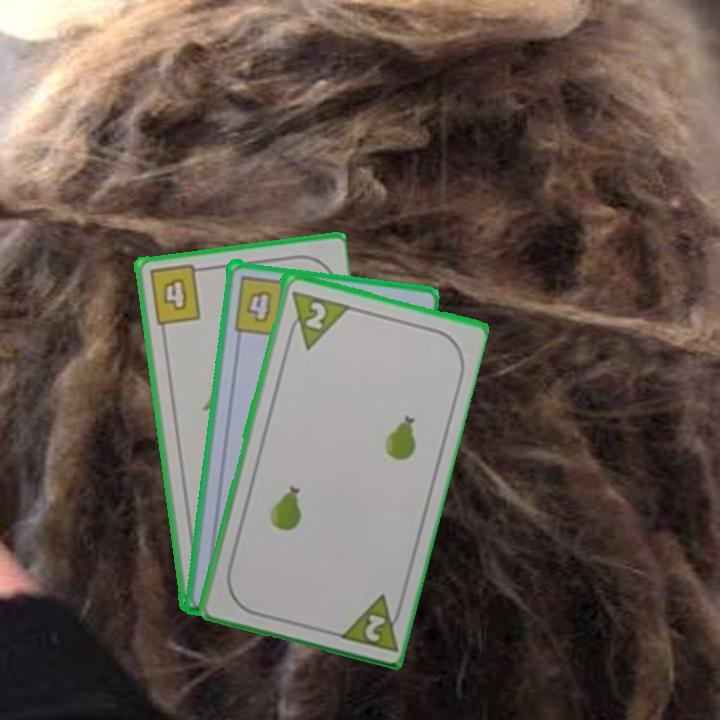2p: (333, 589, 406, 654), (282, 286, 350, 352)
4b: (230, 271, 298, 337), (145, 261, 208, 328)
